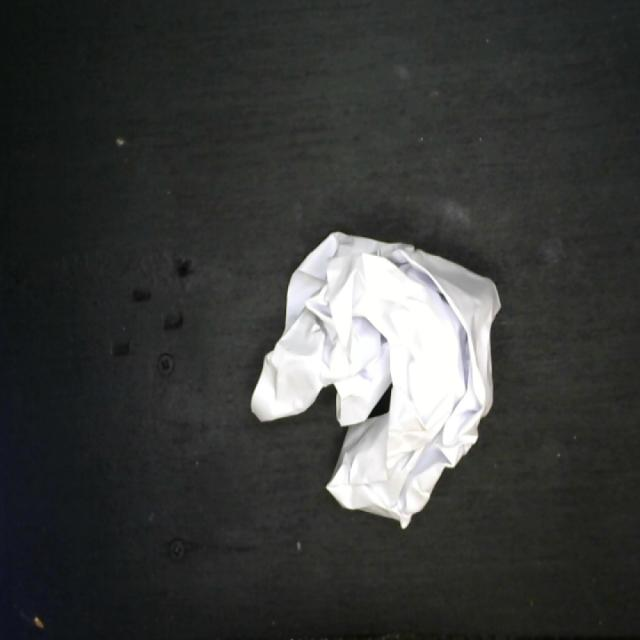biodegradable: (245, 225, 504, 534)
